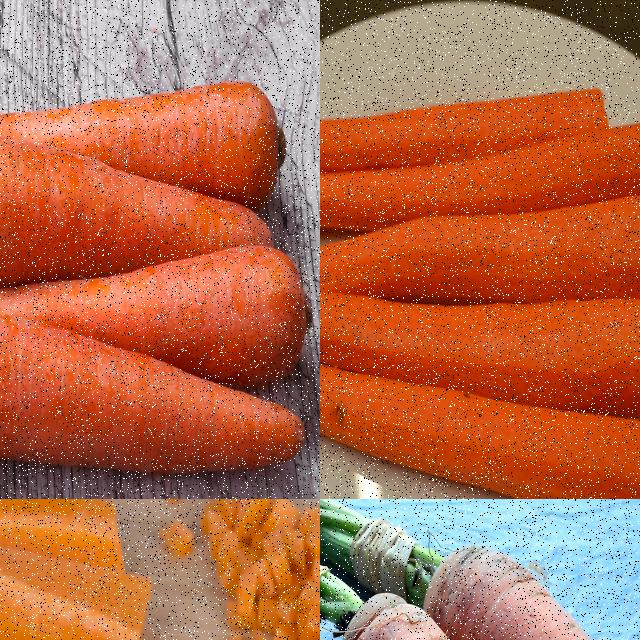carrot: (320, 337, 639, 498), (320, 265, 639, 421), (0, 245, 315, 392), (0, 321, 308, 468), (0, 140, 274, 299), (320, 106, 639, 230), (0, 78, 289, 212), (320, 191, 639, 282), (320, 85, 616, 178), (0, 499, 164, 639), (419, 544, 639, 639), (337, 590, 639, 639)
